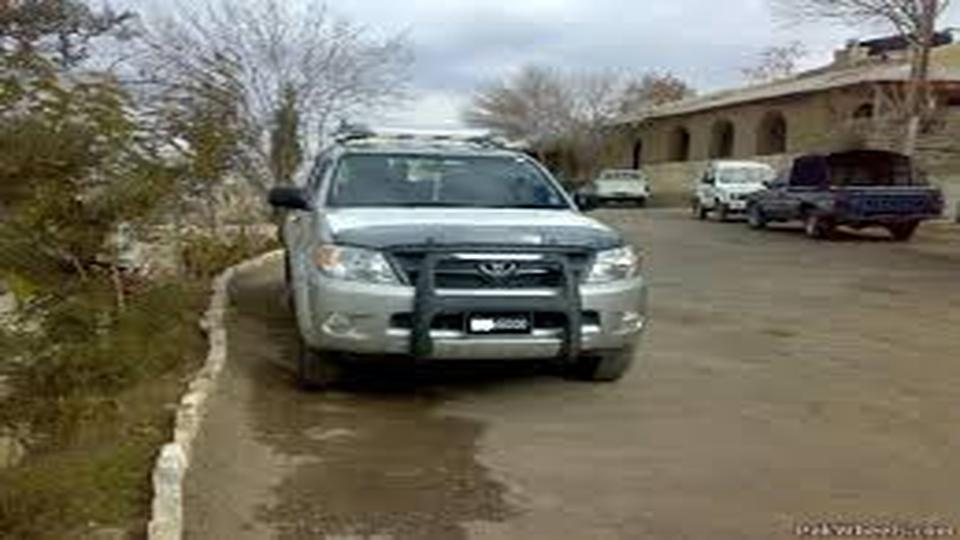NumberPlate: (471, 294, 540, 338)
